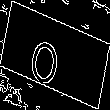O_N: (37, 24, 73, 86)
